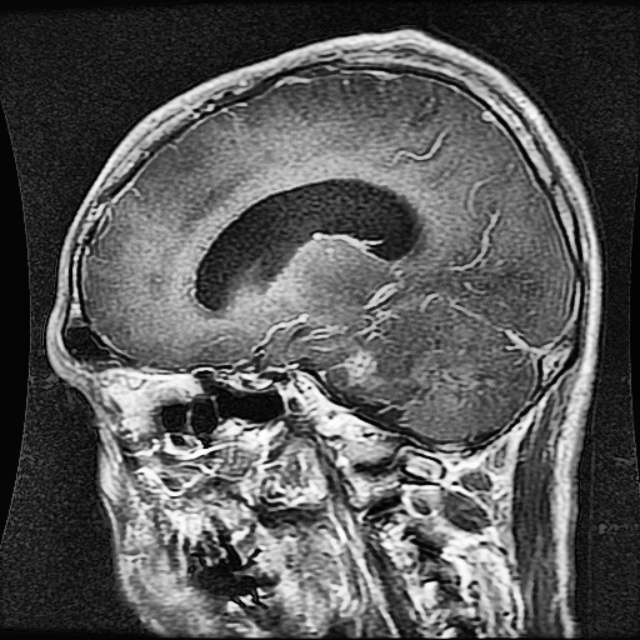Meningioma: (342, 344, 378, 384)
